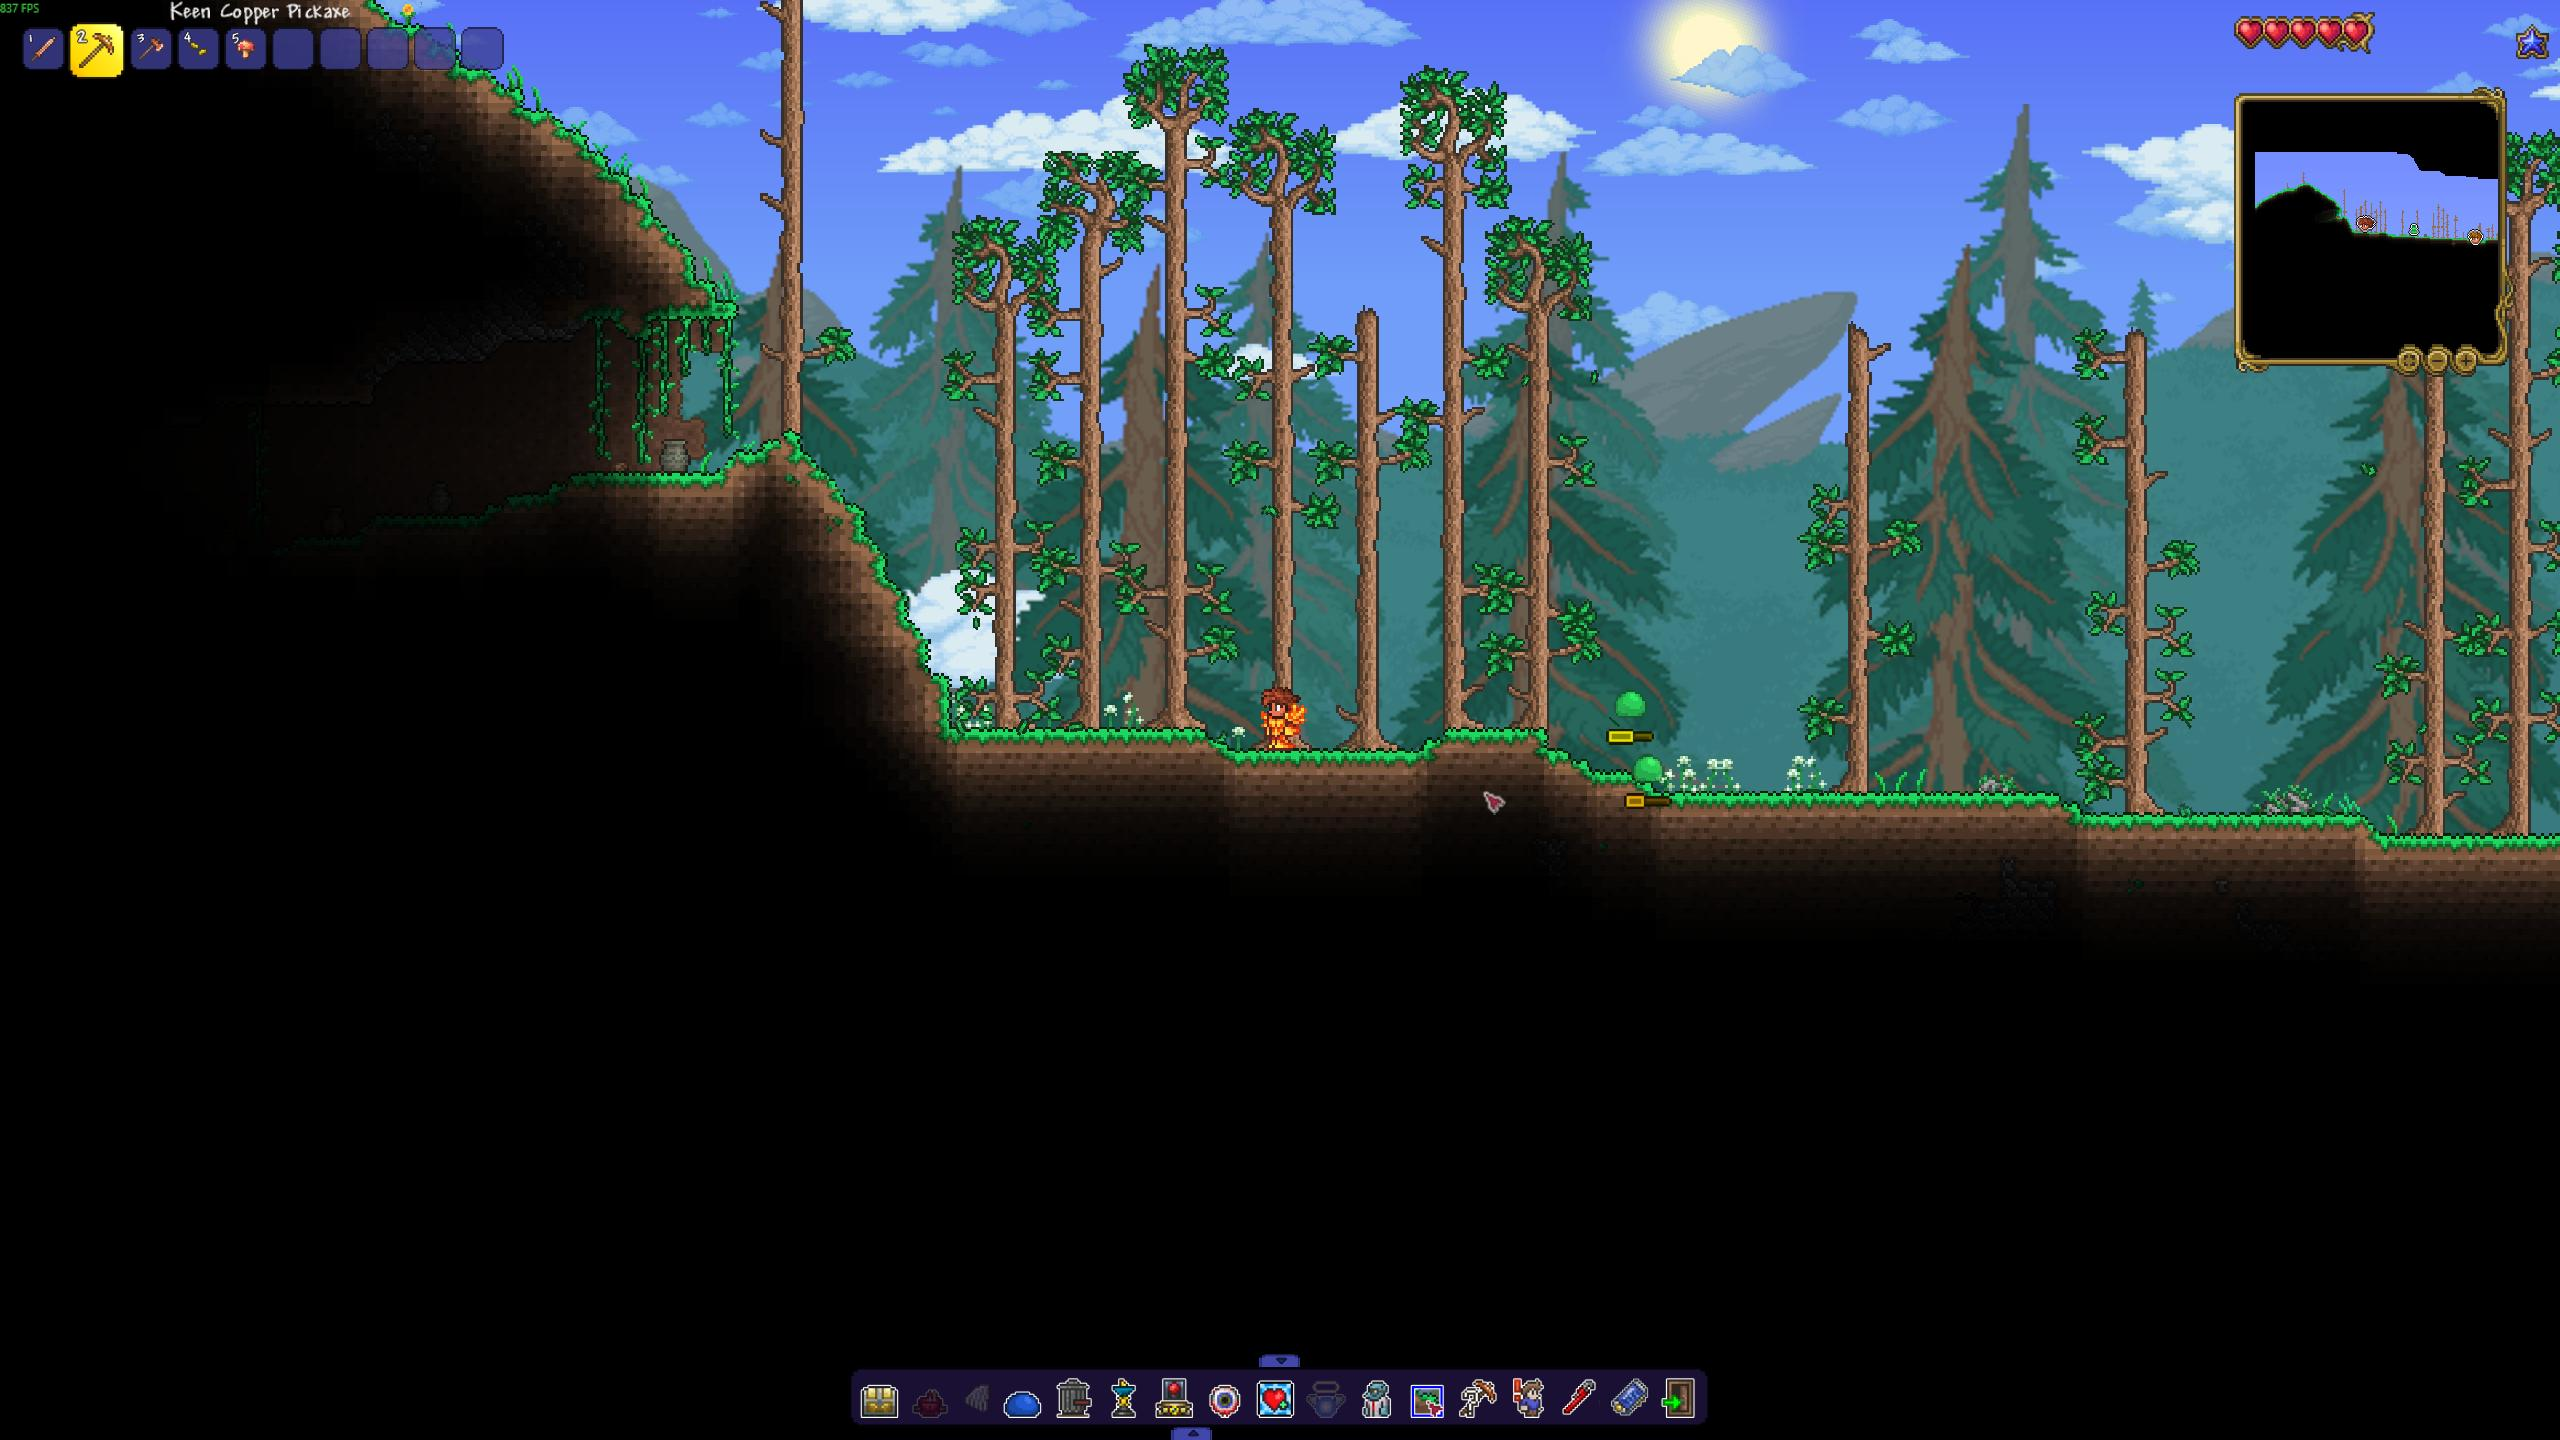Green Slime: (1632, 754, 1665, 784), (1614, 691, 1649, 717)
